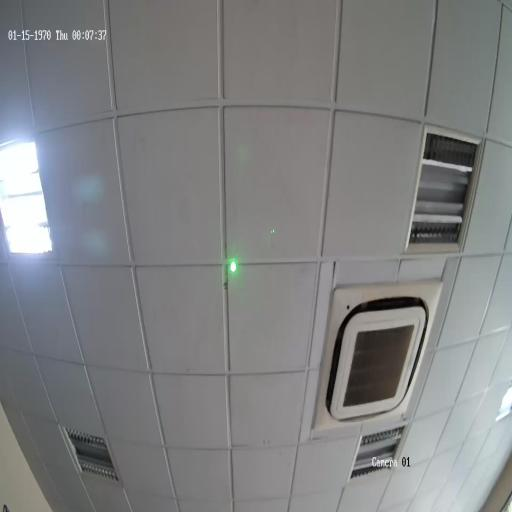laser: (229, 258, 237, 274)
